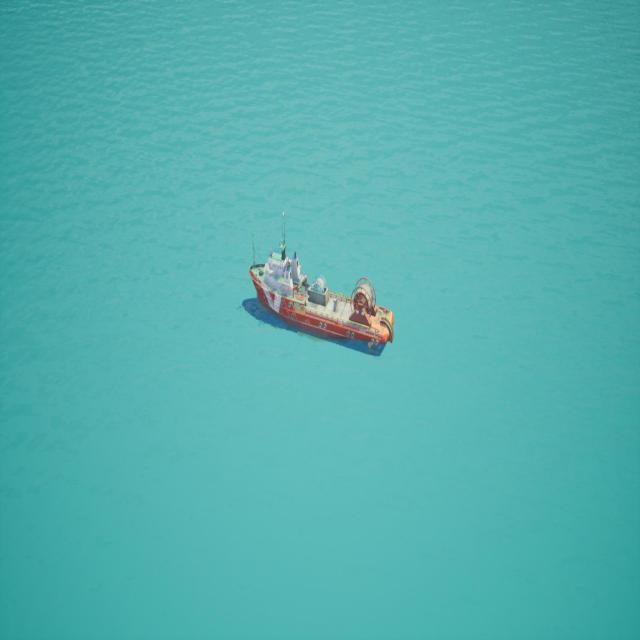tug boat: (243, 212, 395, 358)
